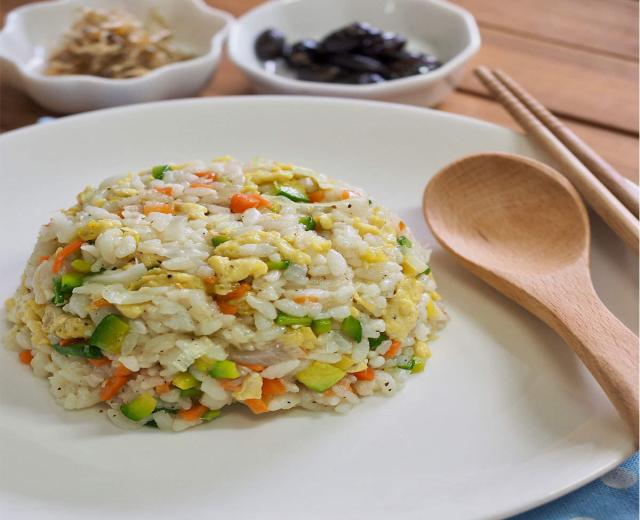dal makhni: (264, 27, 434, 83)
fried rice: (7, 2, 633, 199), (2, 155, 439, 426), (425, 157, 634, 446), (43, 6, 192, 79)
